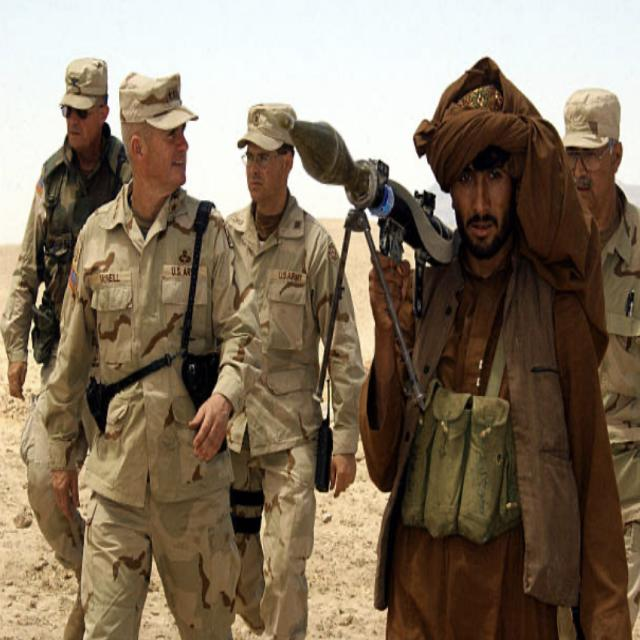bazooka: (268, 109, 485, 441)
